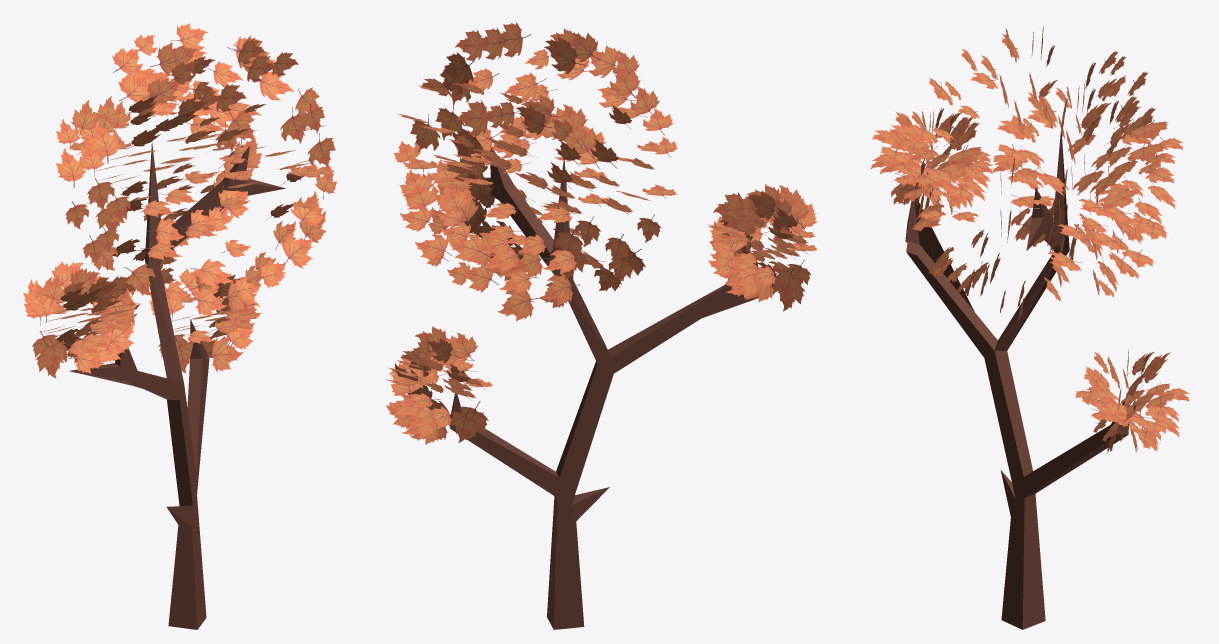
Rendered from tree_18.fbx.
The picture shows the model from 3 angles, left to right: view 1: azimuth 30°, elevation 25°; view 2: azimuth 150°, elevation 25°; view 3: azimuth 270°, elevation 25°; orthographic projection. The views are drawn at different scales.
Visible parts, largest first — view 1: Plane.027; view 2: Plane.027; view 3: Plane.027.
Part boxes in pixels (x1,y1,x2,y2): Plane.027: (23, 23, 336, 629); Plane.027: (386, 21, 817, 629); Plane.027: (870, 26, 1189, 629).
Bounding box in the file's own units: 350 × 546 × 287.
2 materials, 1 textured.
